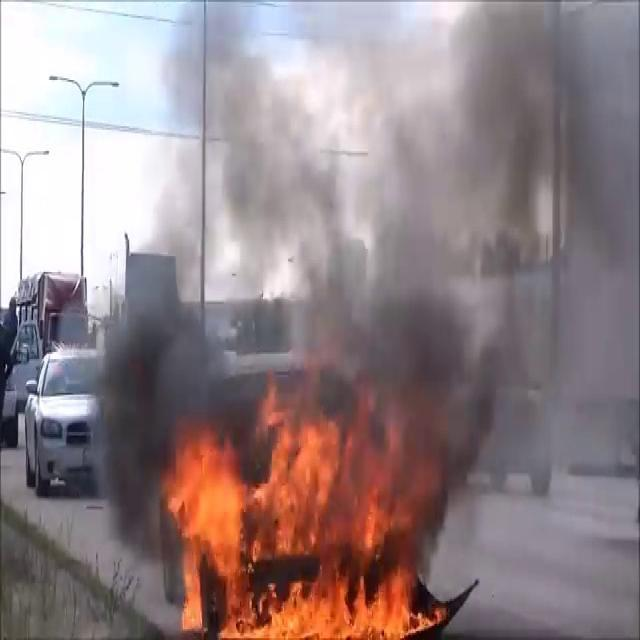Fire: (161, 403, 434, 640)
Smoke: (87, 1, 630, 495)
